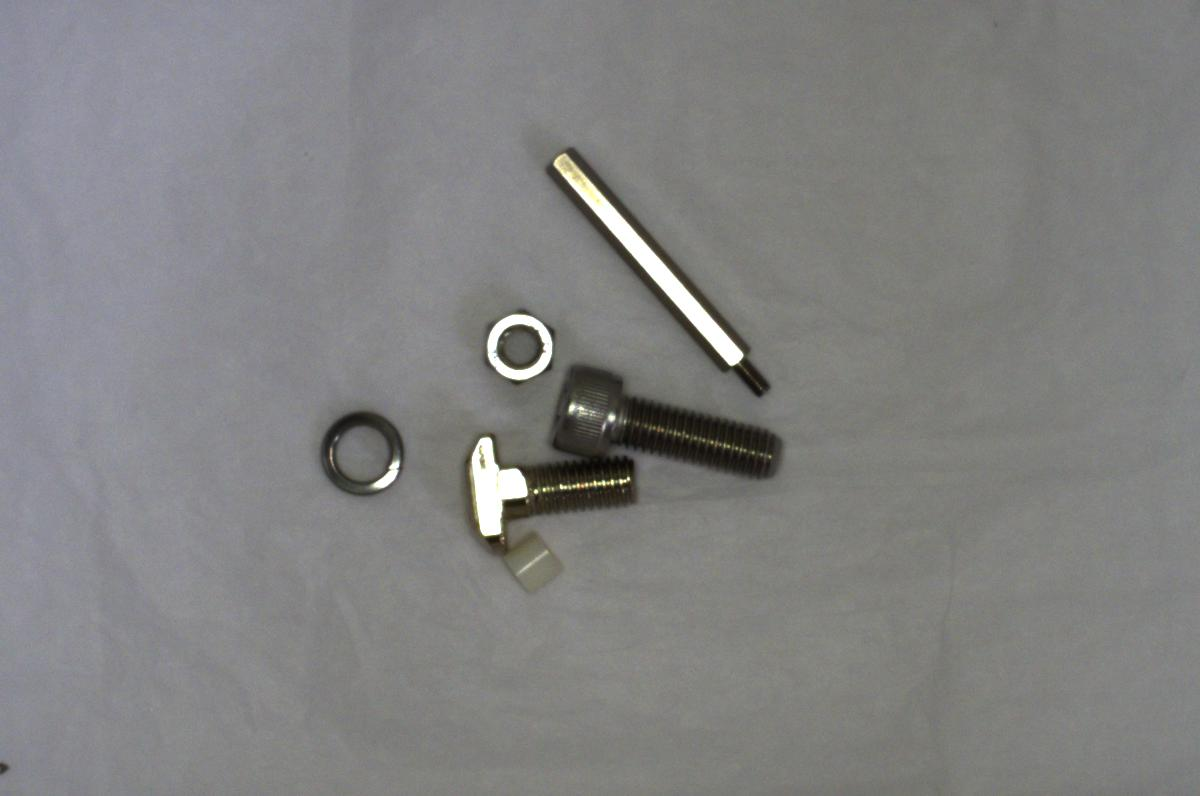Hexagon nut: (477, 303, 559, 390)
Hexagon screw: (542, 368, 800, 479)
Hexagonal steel column: (539, 139, 770, 402)
Plastic cushion pillar: (493, 527, 567, 594)
Spring washer: (317, 405, 412, 502)
T-shaped screw: (452, 429, 651, 550)
